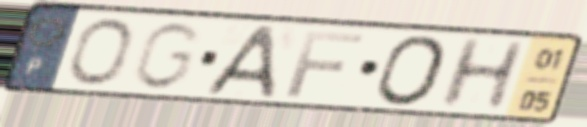A: (200, 24, 282, 100)
F: (283, 28, 370, 100)
G: (127, 20, 205, 93)
H: (433, 35, 532, 111)
O: (373, 33, 452, 109), (64, 16, 136, 89)
